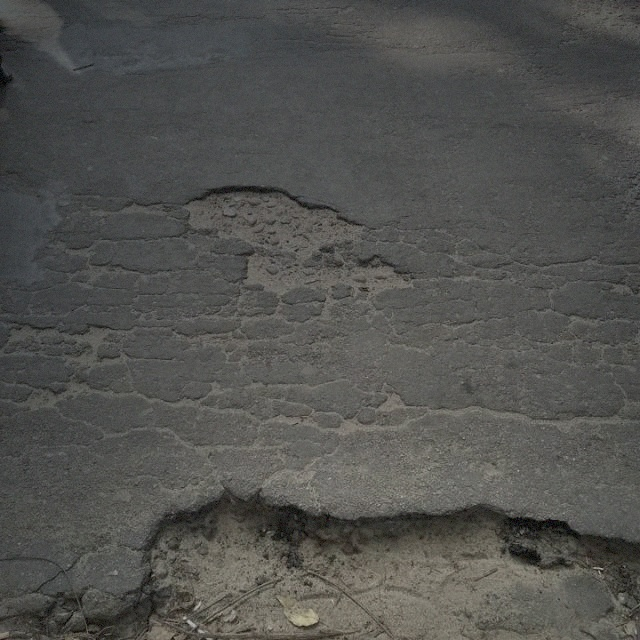pothole: (22, 478, 639, 639), (181, 181, 419, 295)
